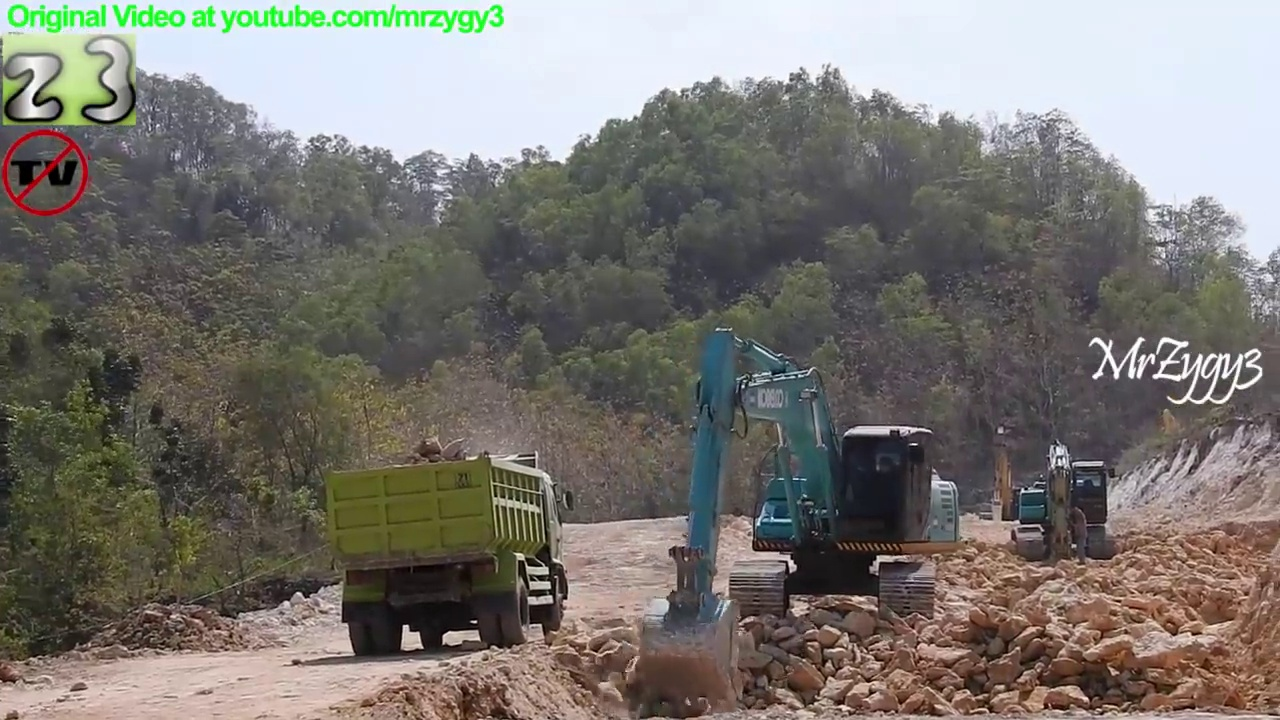excavator: (634, 321, 967, 710), (968, 421, 1053, 531)
excavator breaker: (1010, 436, 1123, 568)
truck: (319, 447, 577, 661)
worker: (1064, 503, 1096, 568)
